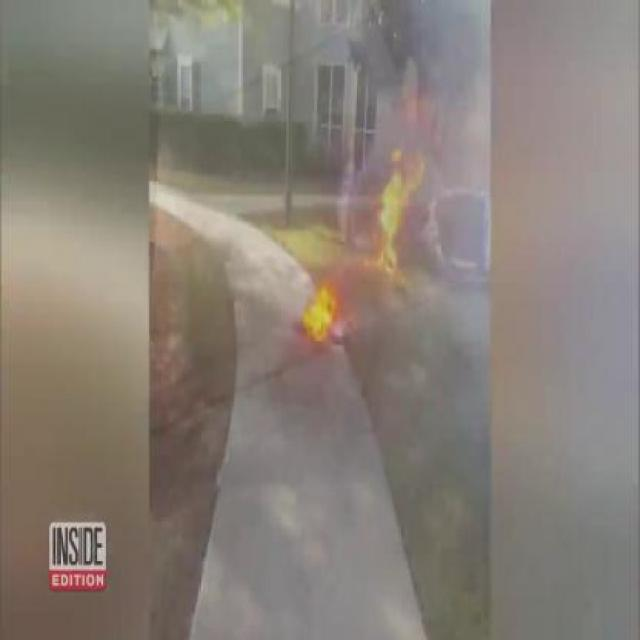fire: (362, 140, 415, 291), (294, 258, 344, 349)
smoke: (409, 41, 491, 540)
